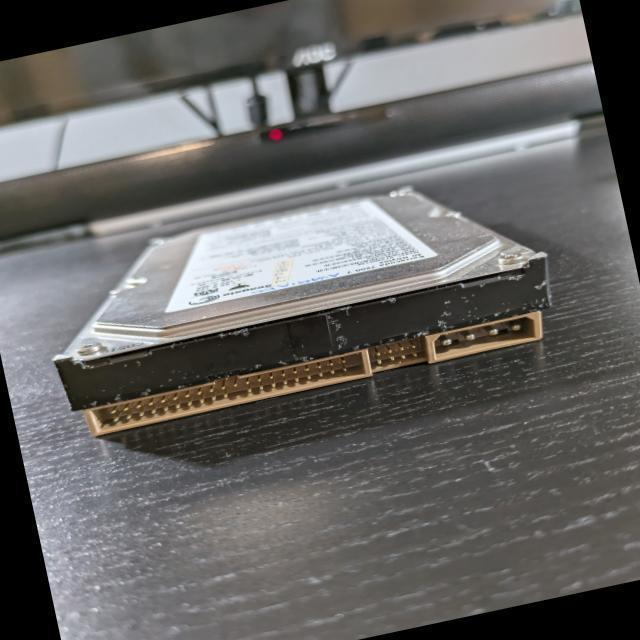DISK: (34, 158, 565, 443)
